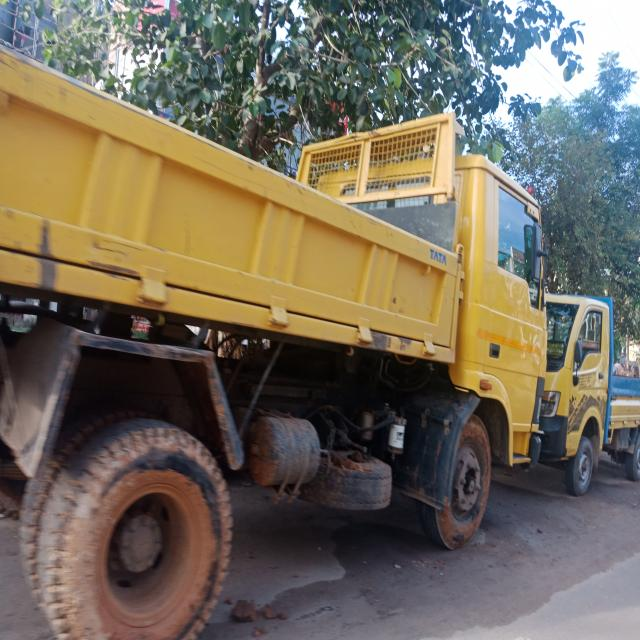pickup-van: (545, 278, 640, 515)
truck: (0, 20, 544, 582)
